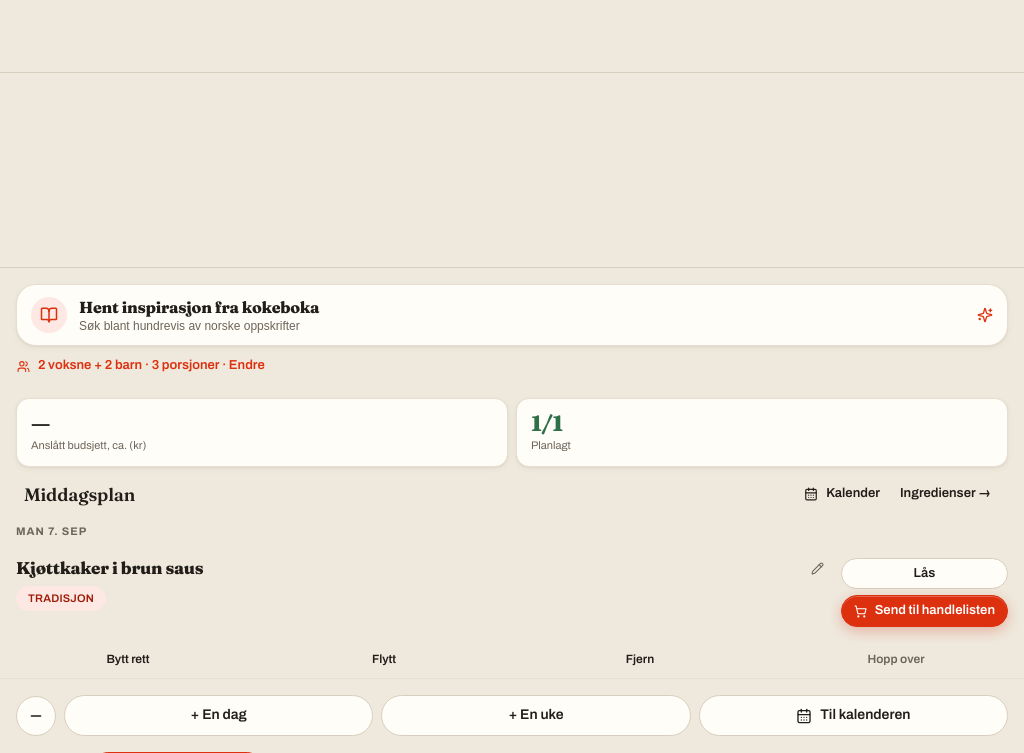
Test: Endre retten kontra bytte rett › blyanten åpner retten rett i redigering
What coordinates should you click on to do the following:
click the button named "Endre Kjøttkaker i brun saus"
I would click on:
 (818, 569)
Its box is x1=796 y1=547 x2=840 y2=591.
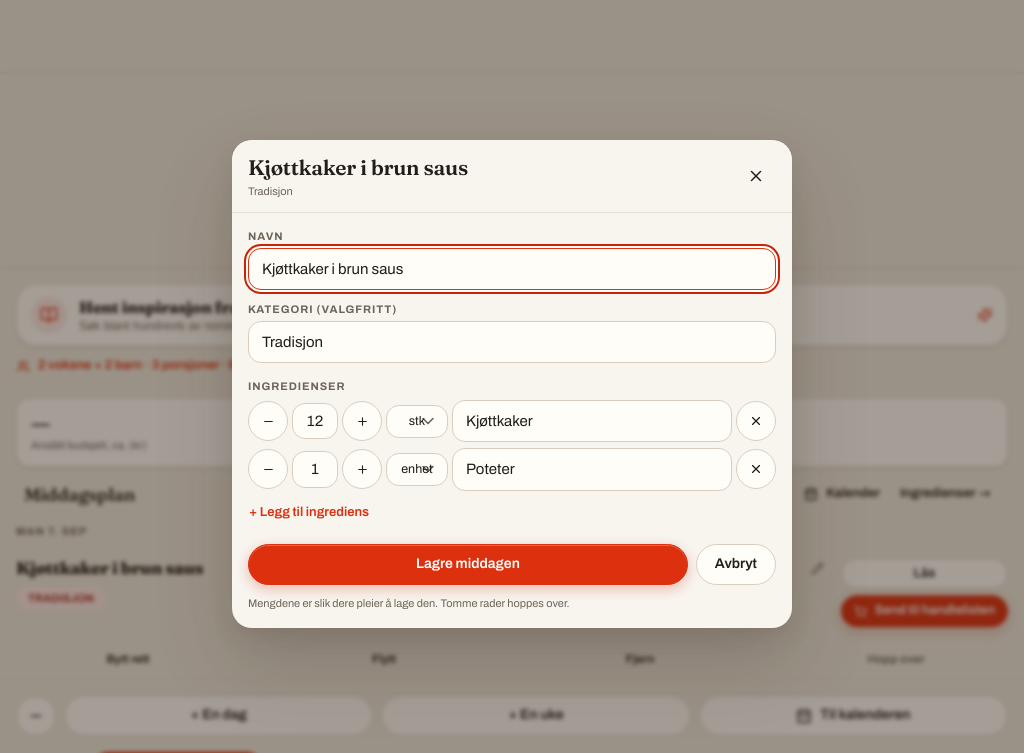
Check: the field showing "Kjøttkaker i brun saus" is shown, box x1=248 y1=248 x2=776 y2=290
Check: the 1st field showing "Kjøttkaker" is shown, box x1=452 y1=400 x2=732 y2=442
